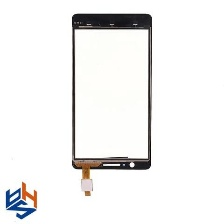phone: (66, 11, 154, 173)
